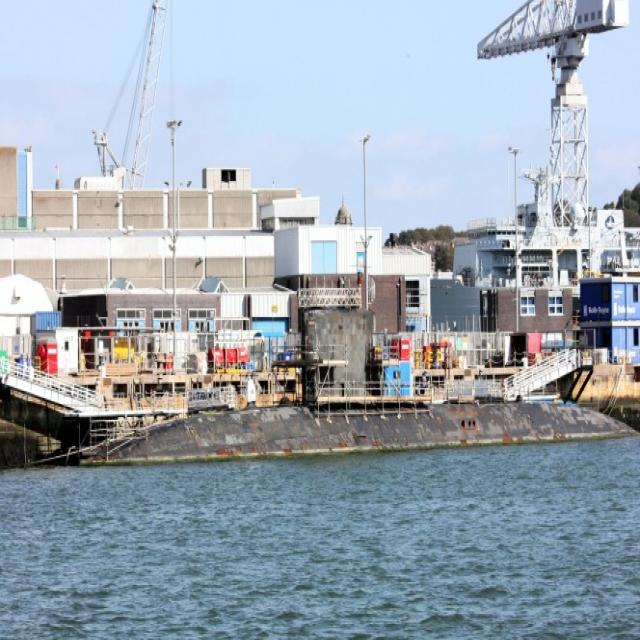submarine: (44, 298, 640, 463)
